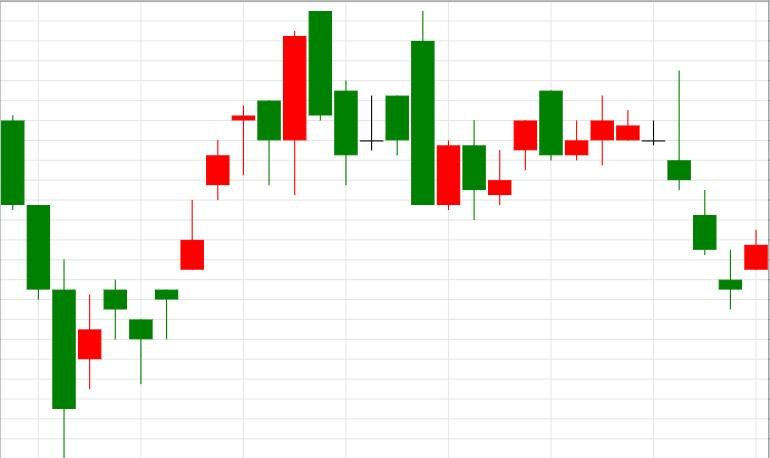hanging_man_fall: (129, 101, 281, 383)
